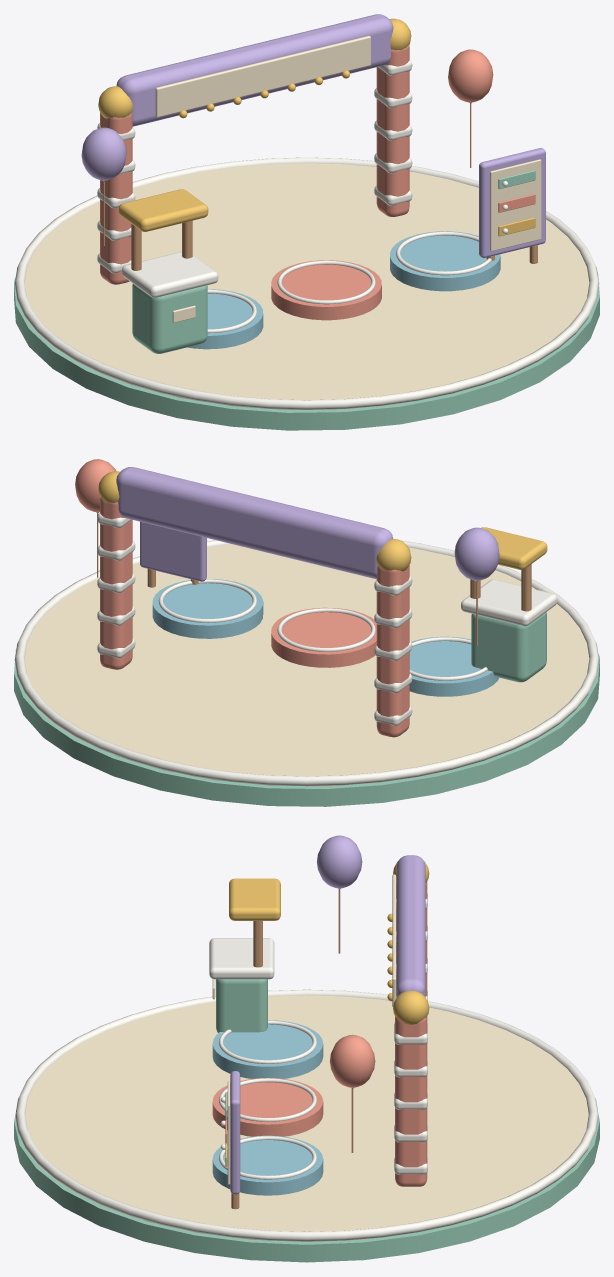
The model's file is arena.glb.
3 renders of one model, top to bottom at view 1: azimuth 30°, elevation 25°; view 2: azimuth 150°, elevation 25°; view 3: azimuth 270°, elevation 25°, orthographic.
Visible parts, largest first — view 1: Island, WelcomeArch, carnival_arena, TicketBooth, ScheduleBoard; view 2: Island, WelcomeArch, carnival_arena, TicketBooth, ScheduleBoard; view 3: Island, carnival_arena, WelcomeArch, TicketBooth, ScheduleBoard.
Part boxes in pixels (x1,y1,x2,y2): Island: (14,157,599,430); WelcomeArch: (97,14,412,284); carnival_arena: (81,49,500,349); TicketBooth: (118,189,218,353); ScheduleBoard: (479,148,545,263); Island: (14,540,599,806); WelcomeArch: (97,467,412,737); carnival_arena: (75,459,499,696); TicketBooth: (461,527,557,682); ScheduleBoard: (140,521,206,587); Island: (14,989,599,1262); carnival_arena: (212,835,375,1195); WelcomeArch: (387,855,429,1186); TicketBooth: (209,878,280,1032); ScheduleBoard: (220,1071,240,1209).
Size of the model in its own units: 9 by 3.75 by 9.
